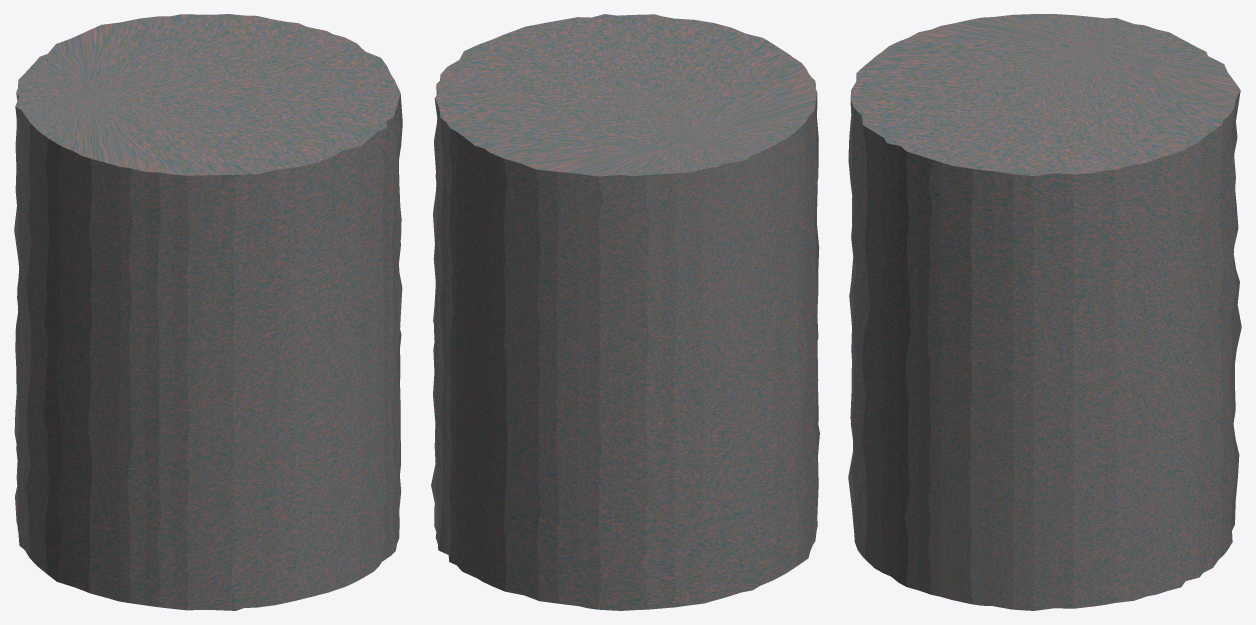
File: barrel_64.dae
The picture shows the model from 3 angles, left to right: view 1: azimuth 30°, elevation 25°; view 2: azimuth 150°, elevation 25°; view 3: azimuth 270°, elevation 25°; orthographic projection.
Parts seen in each view (by area): view 1: Cylinder; view 2: Cylinder; view 3: Cylinder.
Part boxes in pixels (left/top/right/bottom): Cylinder: left=14, top=14, right=402, bottom=610; Cylinder: left=431, top=14, right=819, bottom=610; Cylinder: left=848, top=14, right=1241, bottom=610.
Size of the model in its own units: 0.8181 by 0.8206 by 1.
1 material, 1 textured.
